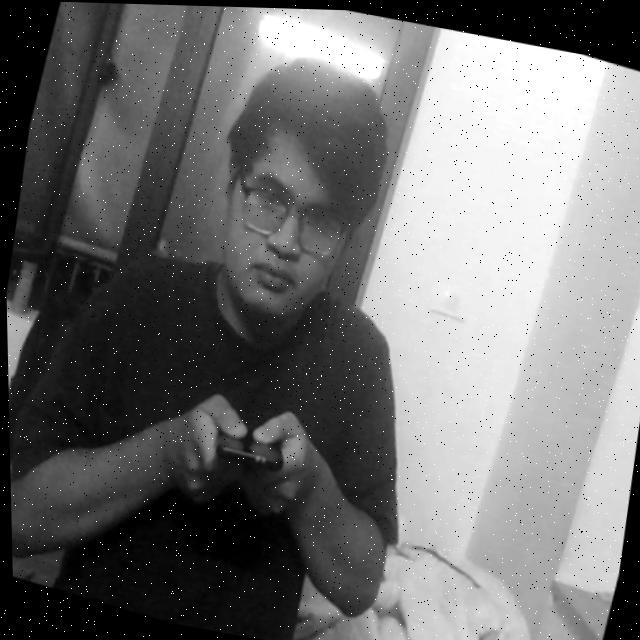phone: (190, 397, 296, 508)
